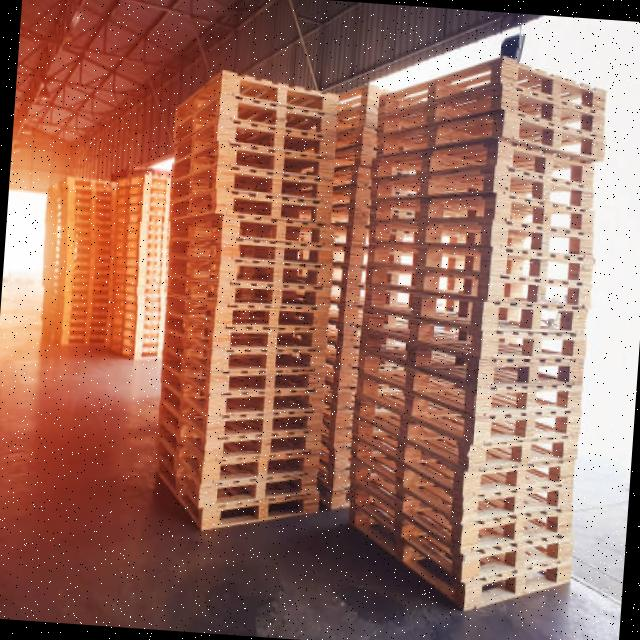Wooden-Pallets: (33, 60, 610, 611), (355, 322, 585, 392), (374, 111, 608, 162), (371, 147, 607, 195), (154, 396, 324, 460), (173, 76, 342, 133), (165, 270, 334, 309), (172, 144, 336, 184)
